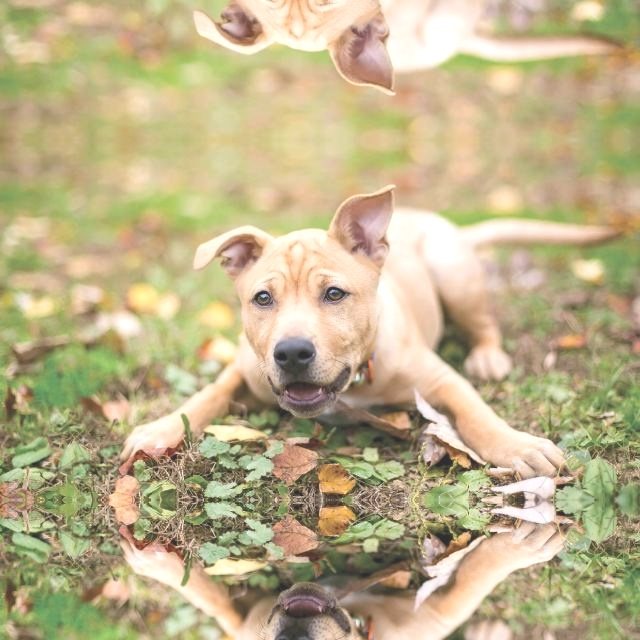dog: (121, 185, 623, 487), (121, 512, 623, 640), (121, 0, 623, 93)
